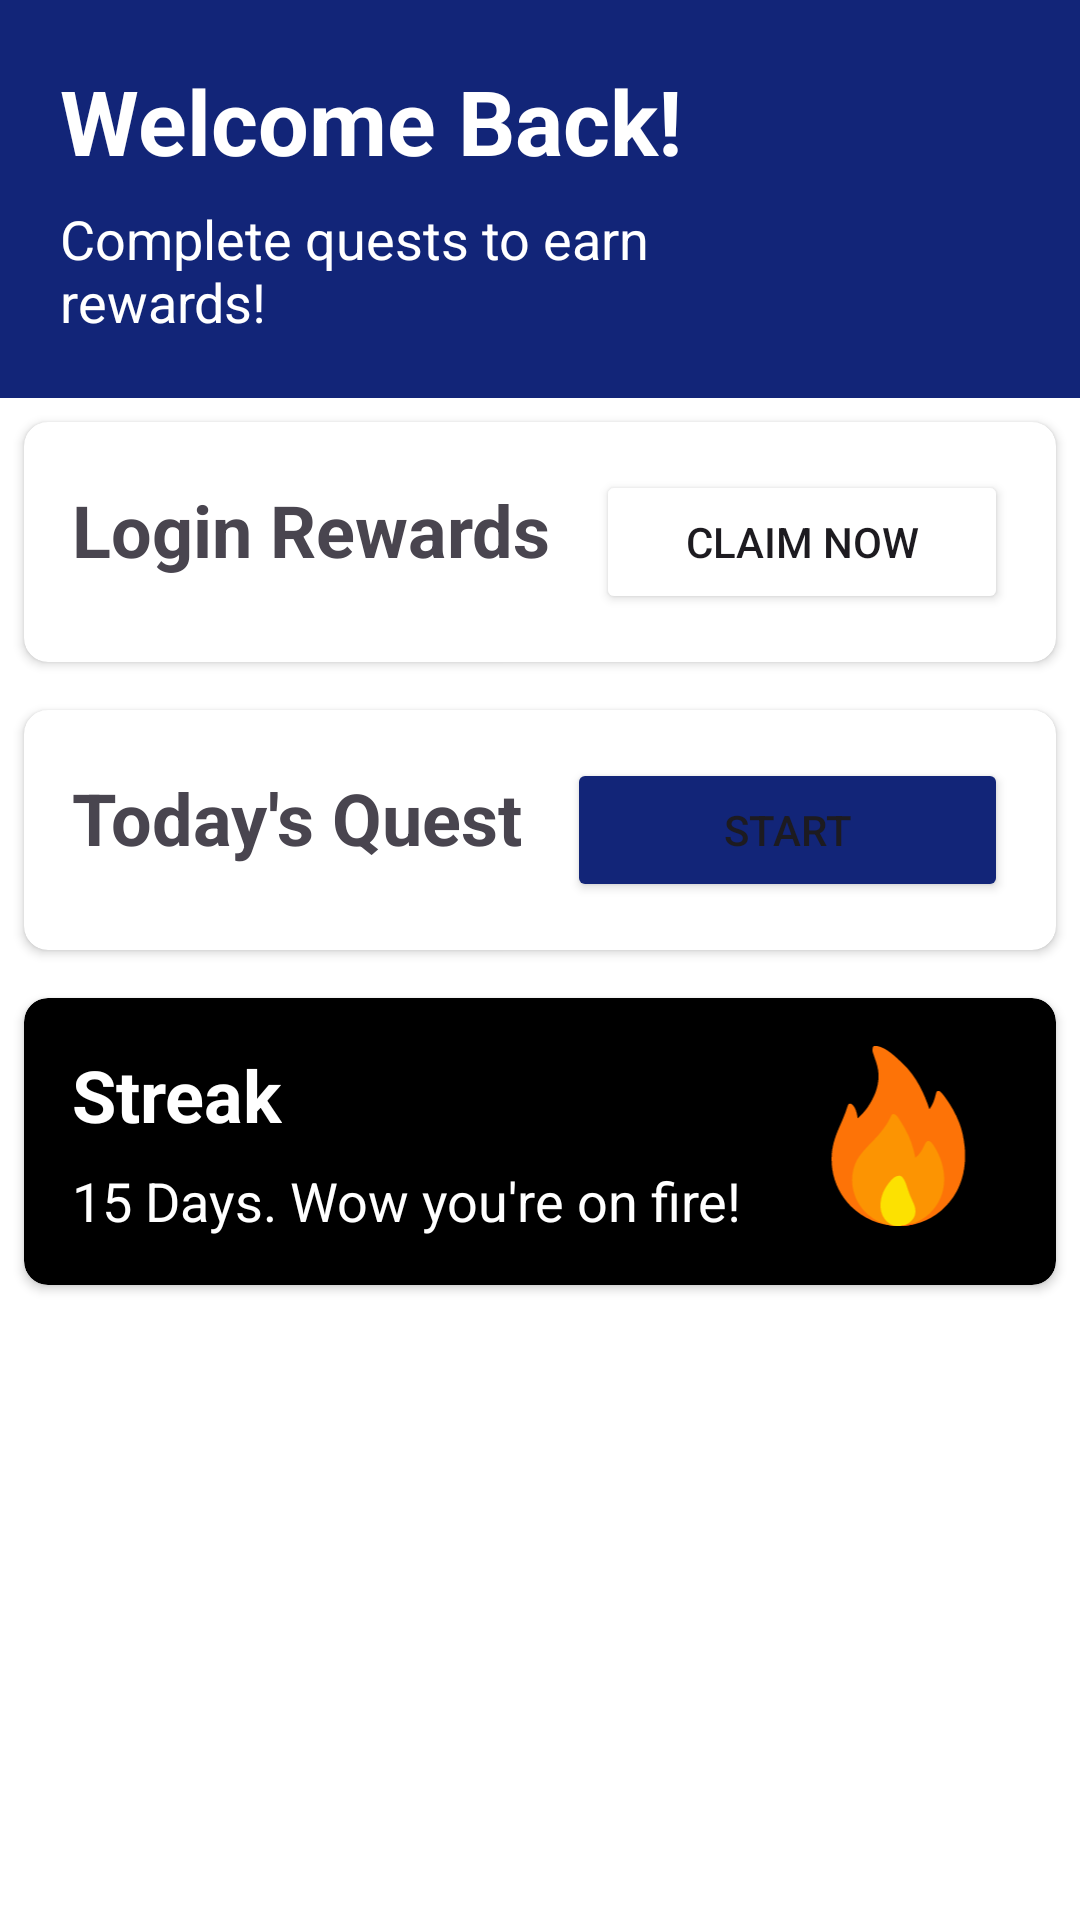

Icon click points for this 1080w x 1920h phone screenshot, format (x,y):
Streak: (898,1136)
